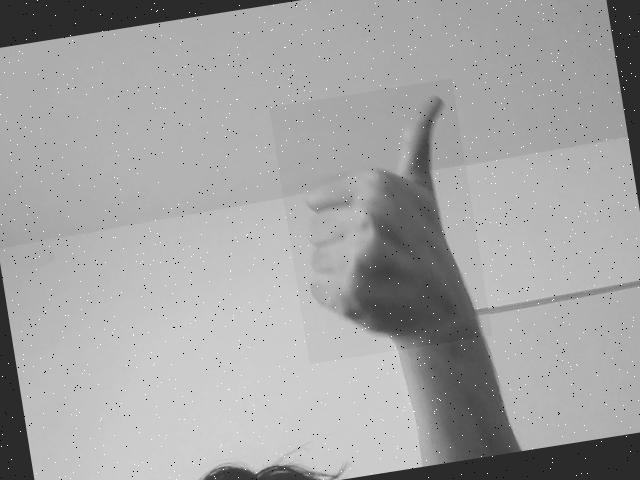good: (294, 79, 474, 353)
